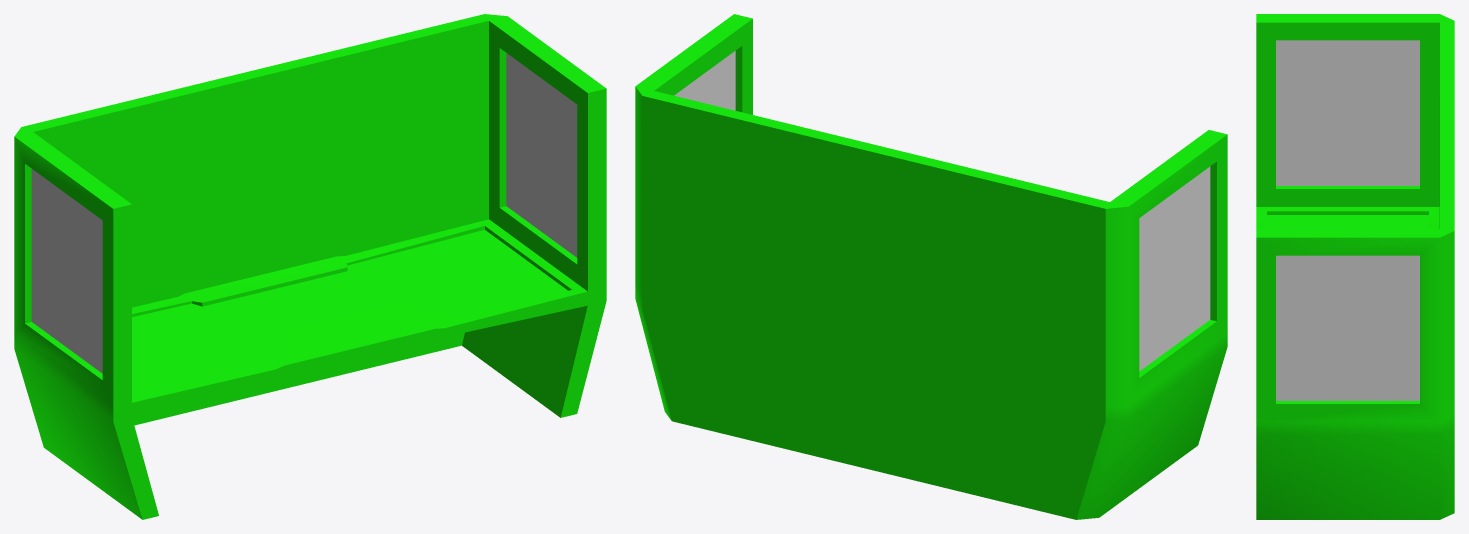
Rendered from BossTable.FBX.
3 renders of one model, left to right at view 1: azimuth 30°, elevation 25°; view 2: azimuth 150°, elevation 25°; view 3: azimuth 270°, elevation 25°, orthographic. The views are drawn at different scales.
Parts seen in each view (by area): view 1: MesaBoss_LP, Cristales; view 2: MesaBoss_LP, Cristales; view 3: MesaBoss_LP, Cristales.
Boxes of the visible parts, <box> form: MesaBoss_LP: <box>14,14,606,519</box>; Cristales: <box>31,53,577,373</box>; MesaBoss_LP: <box>635,14,1227,519</box>; Cristales: <box>674,51,1210,371</box>; MesaBoss_LP: <box>1256,14,1454,519</box>; Cristales: <box>1276,40,1419,400</box>.
Size of the model in its own units: 827 by 510 by 310.
